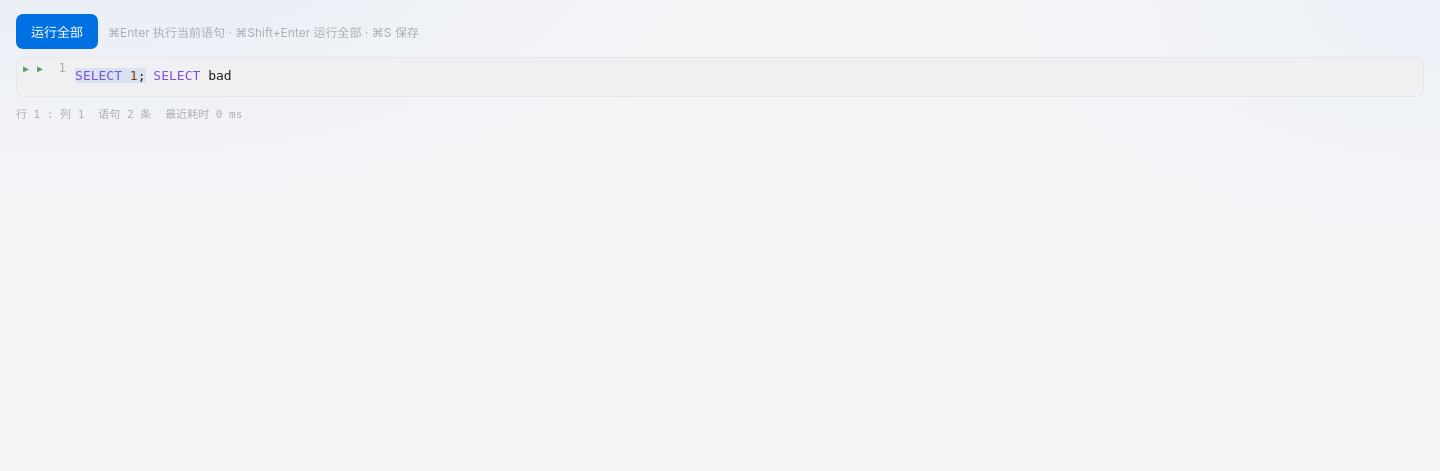
it: CHSqlConsole › 运行全部:整段脚本发给后端,出现 N 个结果 tab,Tab 条下只渲染 active 一张卡
This screenshot has width=1440, height=471.
Click the button with test id "btn-ch-run" at (57, 32), box [16,14,98,49]
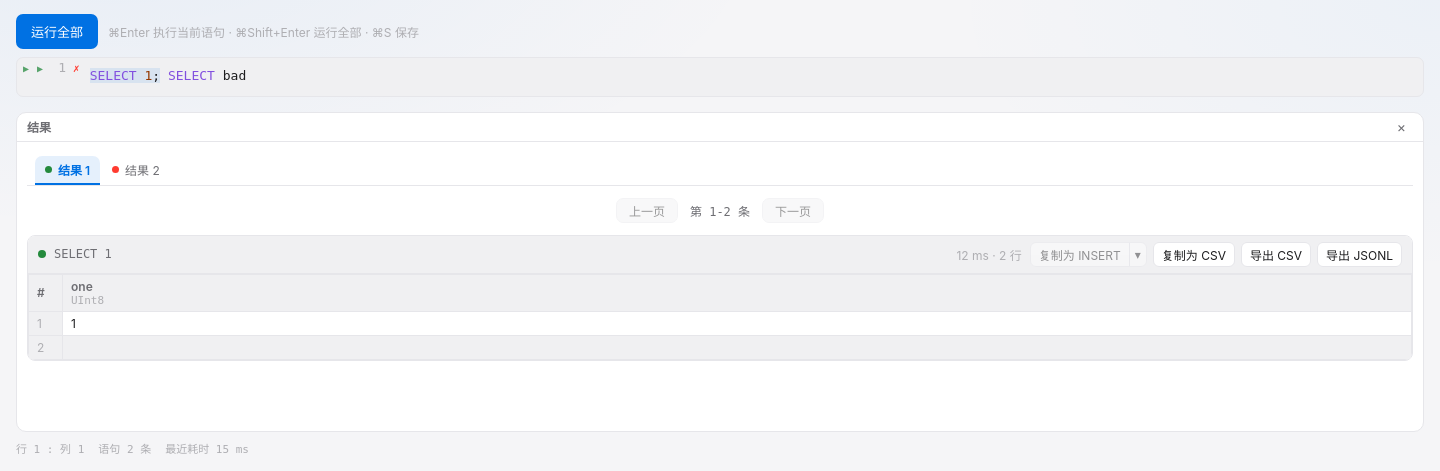
Expected: the number of "SqlResultCard" components is 1, [27,234,1413,360]
Expected: the text "SELECT 1" is shown, [54,247,112,261]
Click the button with test id "result-tab-" at (136, 170), box [102,156,170,184]
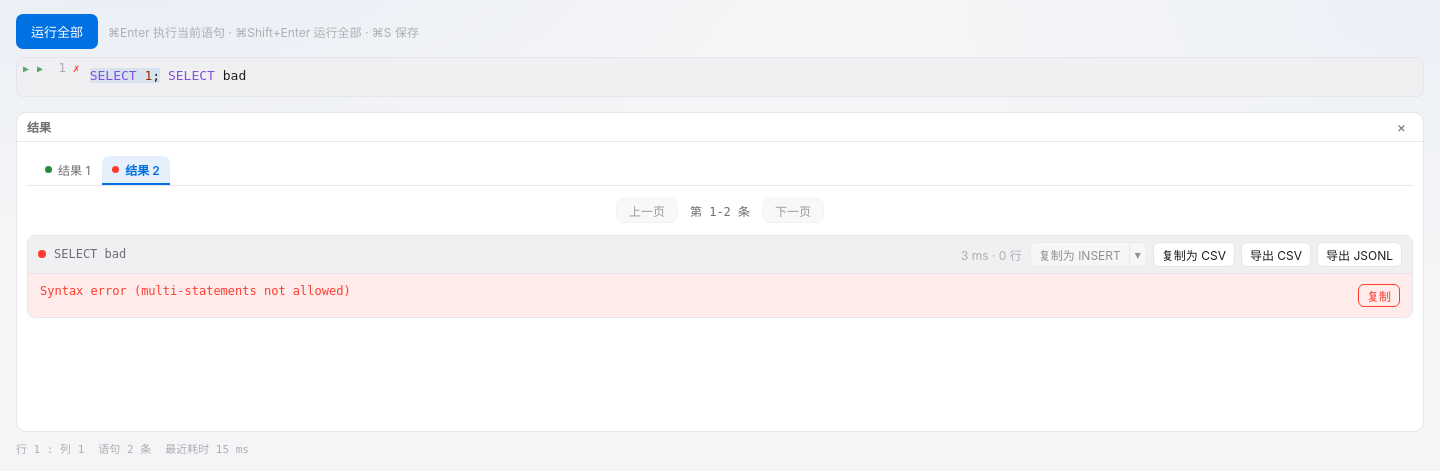
Expected: the text "SELECT bad" is shown, [54,247,126,261]
Expected: the text "Syntax error (multi-statements not allowed)" is shown, [40,284,351,298]
